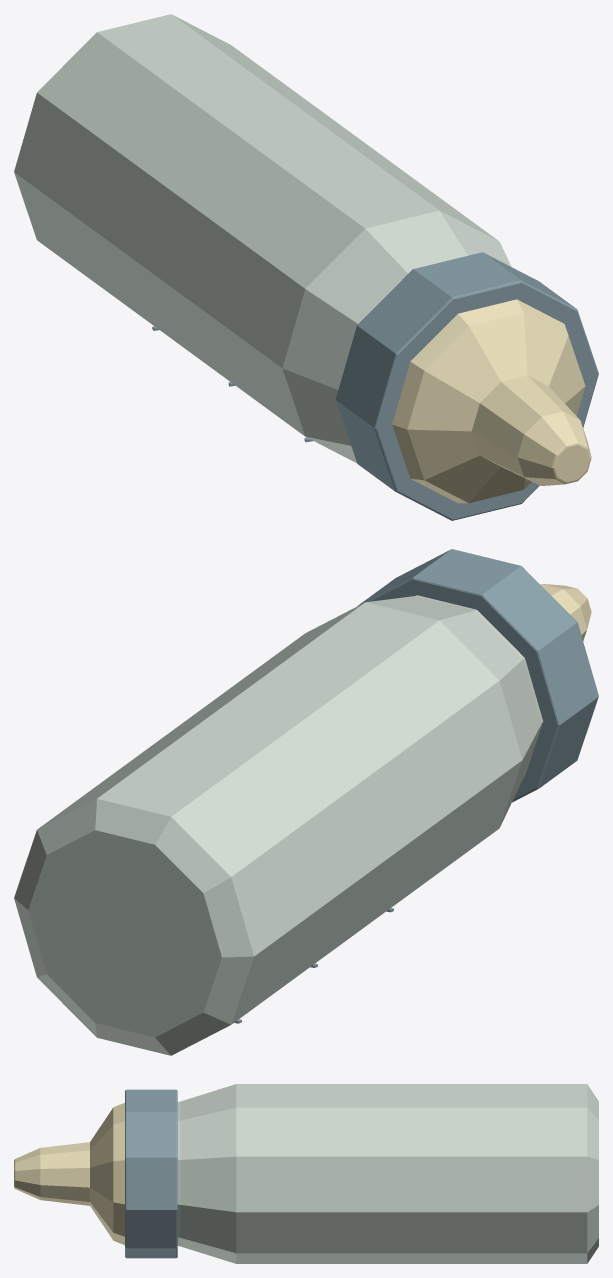
The model's file is baby_bottle.glb.
3 renders of one model, top to bottom at view 1: azimuth 30°, elevation 25°; view 2: azimuth 150°, elevation 25°; view 3: azimuth 270°, elevation 25°, orthographic. The views are drawn at different scales.
Visible parts, largest first — view 1: baby_bottle; view 2: baby_bottle; view 3: baby_bottle.
Part boxes in pixels (left/top/right/bottom): baby_bottle: left=14, top=14, right=598, bottom=520; baby_bottle: left=14, top=549, right=598, bottom=1055; baby_bottle: left=14, top=1084, right=598, bottom=1263.
Bounding box in the file's own units: 0.062 × 0.0621 × 0.2.
